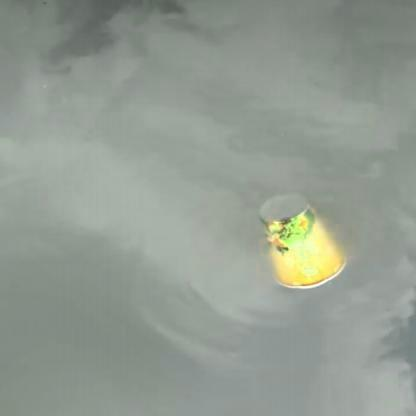Plastic: (254, 187, 354, 294)
